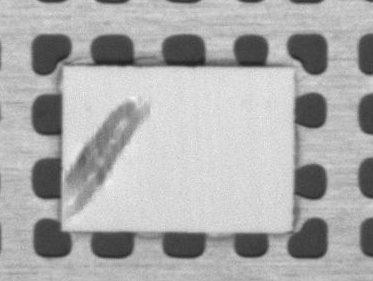DIE_INK: (60, 93, 155, 219)
